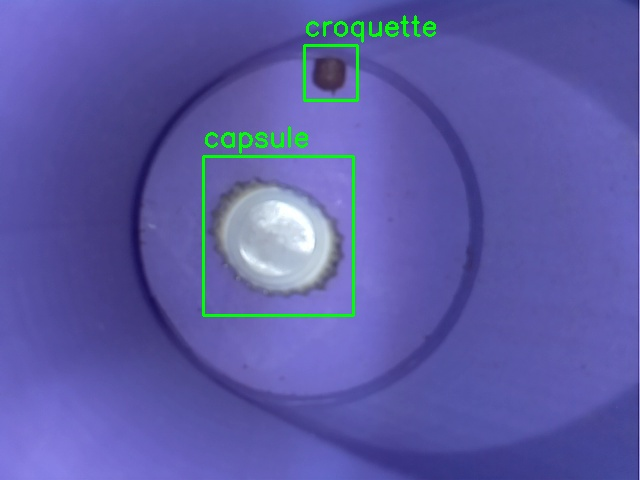capsule: (203, 156, 353, 315)
croquette: (304, 45, 357, 100)
